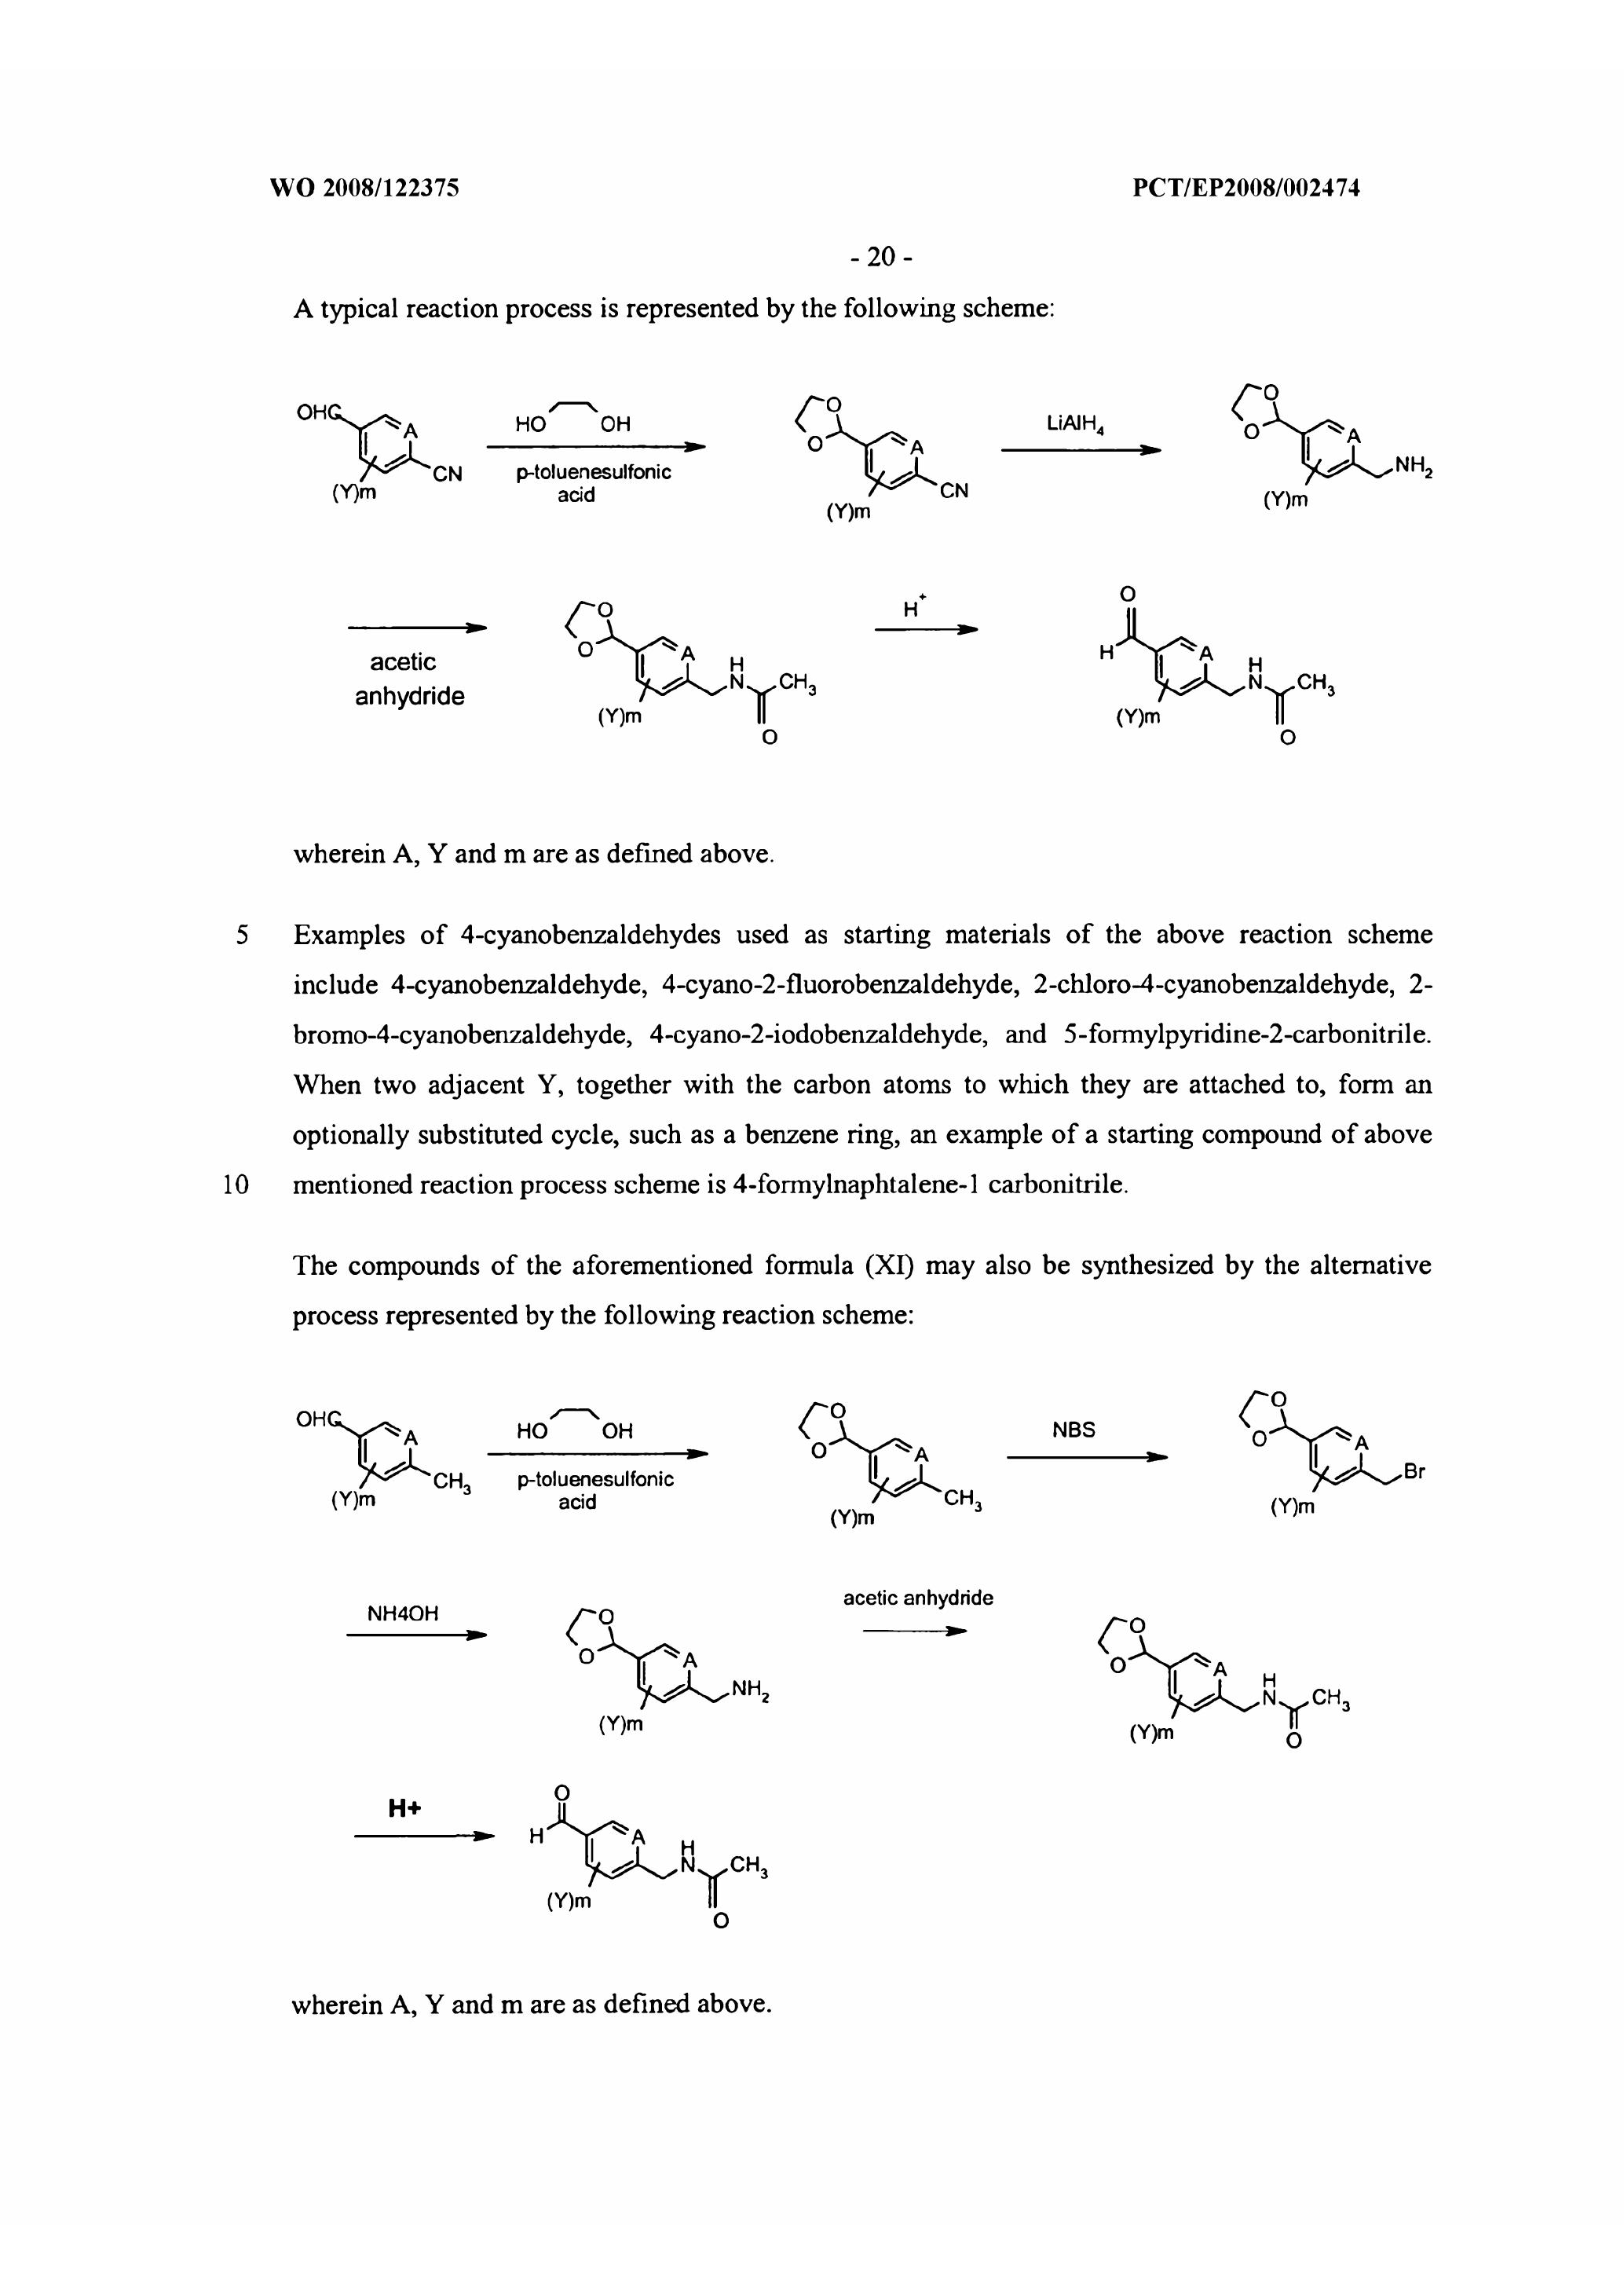intermediates: (529, 1565, 807, 1758), (772, 1377, 984, 1529)
reactions: (225, 341, 1455, 800)
